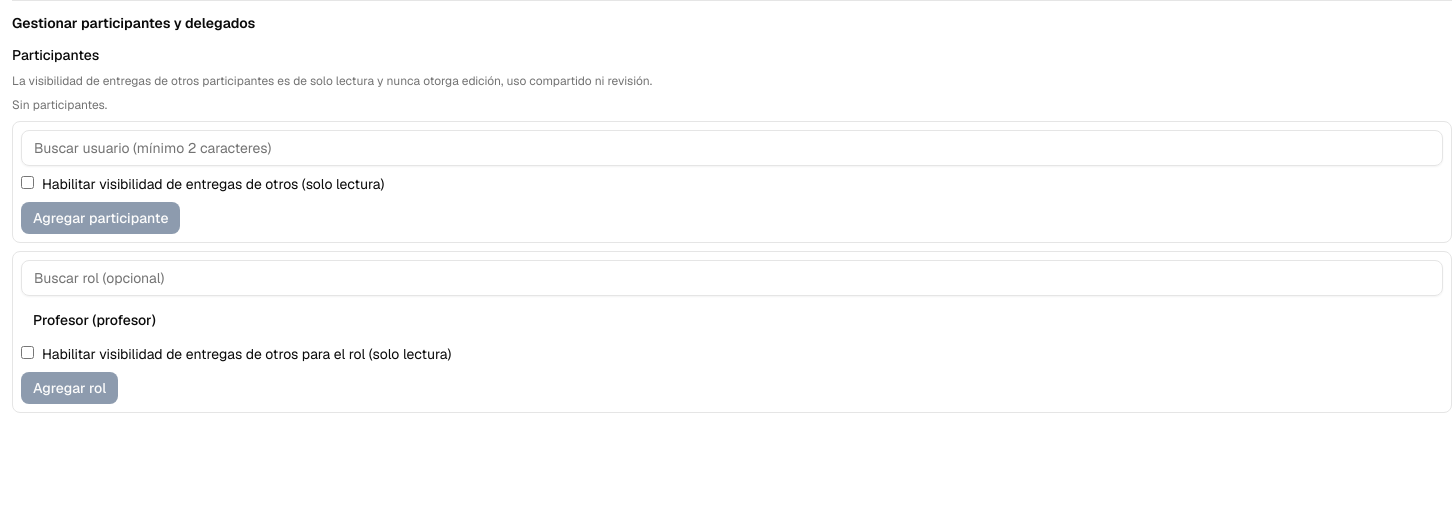
Test case: does not confirm a role response for another role
The width and height of the screenshot is (1452, 512).
What coordinates should you click on to do the following:
click the button "Profesor (profesor)"
I would click on:
 (94, 320)
Its box is [21, 304, 168, 336].
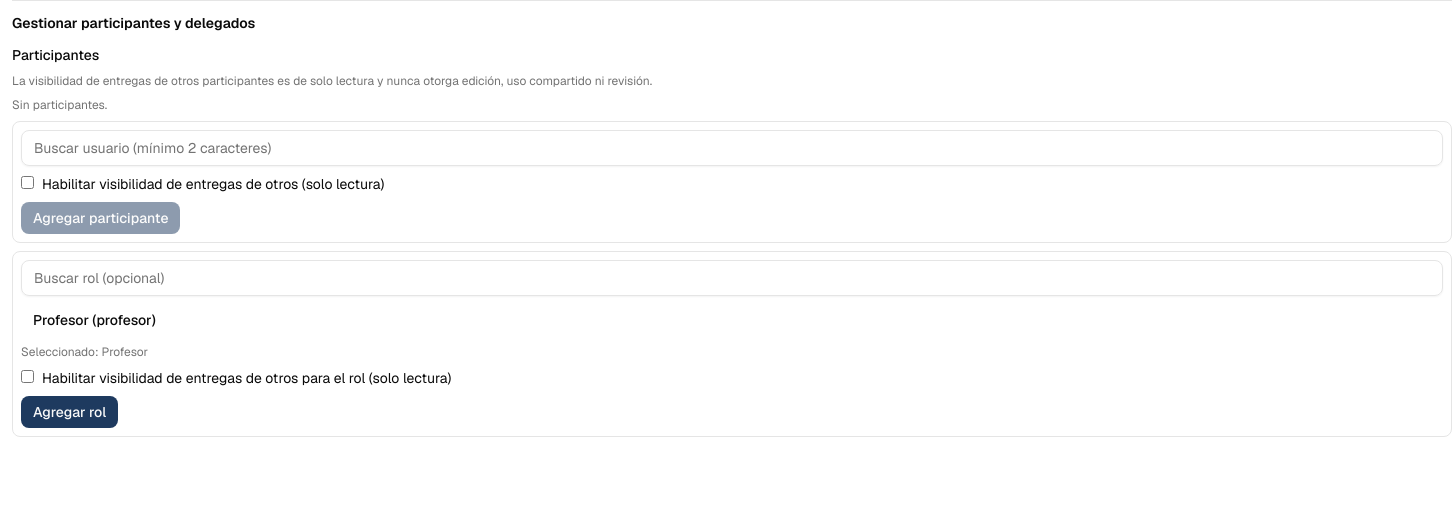
What coordinates should you click on to do the following:
click the button "Agregar rol"
I would click on:
 (70, 412)
Its box is [21, 396, 118, 428].
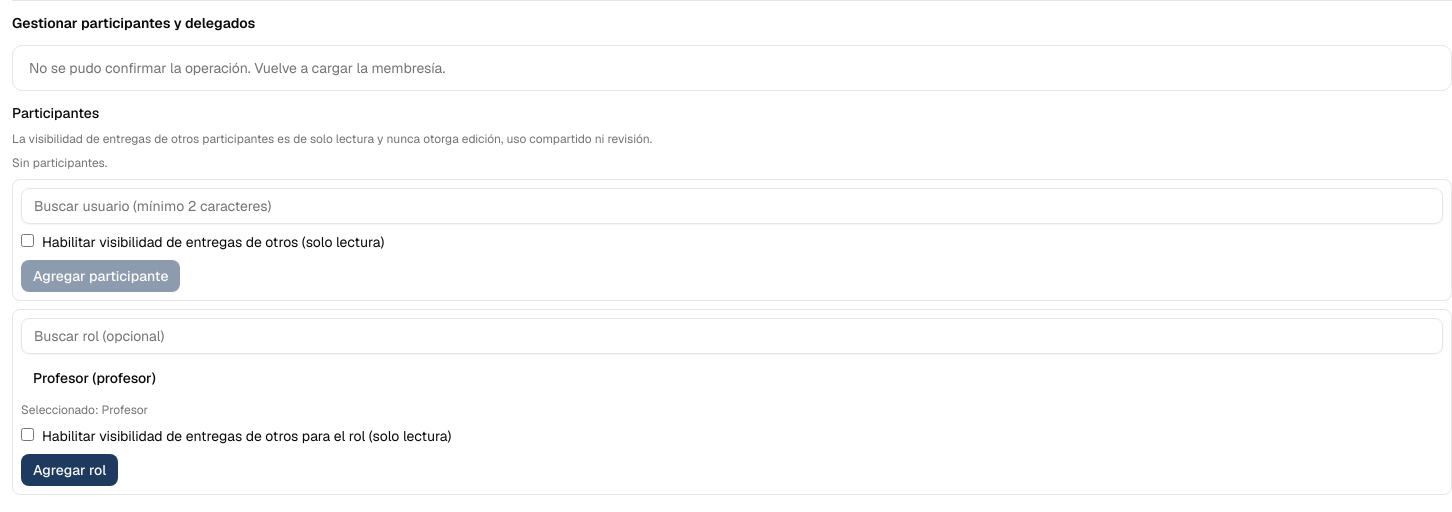
Now the text "No se pudo confirmar la operación" is shown, box [29, 59, 445, 77]
